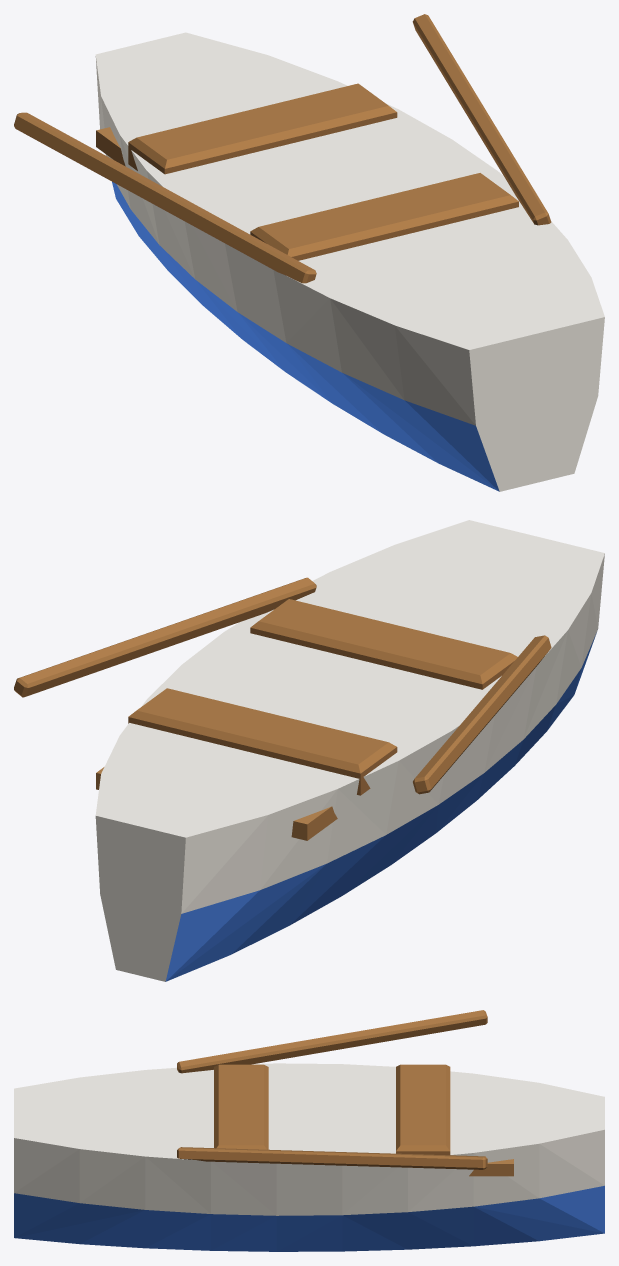
File: Boat_4.glb
3 views of the same model, one above another, from view 1: azimuth 30°, elevation 25°; view 2: azimuth 150°, elevation 25°; view 3: azimuth 270°, elevation 25° (orthographic). The views are drawn at different scales.
Parts seen in each view (by area): view 1: Boat_4; view 2: Boat_4; view 3: Boat_4.
Boxes of the visible parts, x1,y1,x2,y2 form: Boat_4: [14, 14, 604, 491]; Boat_4: [14, 520, 604, 981]; Boat_4: [14, 1010, 604, 1251].
Bounding box in the file's own units: 7.9 × 3.42 × 13.
1 material, 1 textured.
